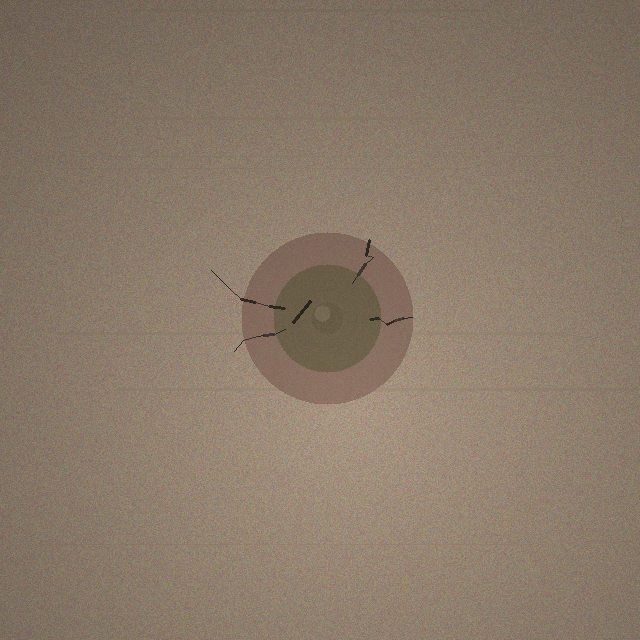crack: (241, 232, 413, 404)
